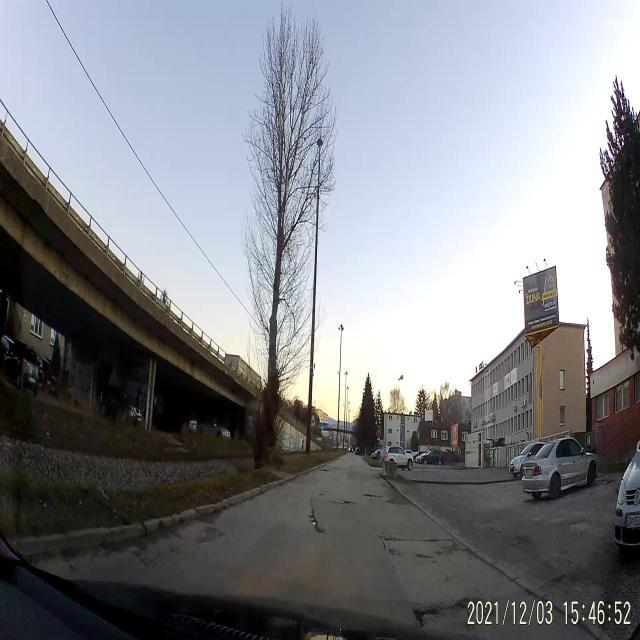Pothole: (410, 601, 442, 630), (380, 528, 406, 562), (198, 523, 226, 551), (308, 510, 328, 540), (136, 550, 160, 572), (412, 548, 434, 566), (454, 591, 472, 608), (342, 497, 358, 507), (363, 492, 383, 499), (320, 467, 330, 473), (318, 492, 324, 498), (336, 478, 342, 482), (386, 499, 390, 504)
